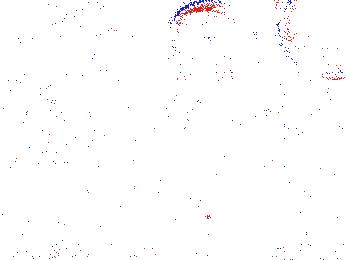moon jellyfish: (168, 2, 257, 75), (150, 51, 233, 115), (280, 1, 346, 80), (35, 1, 121, 34)
